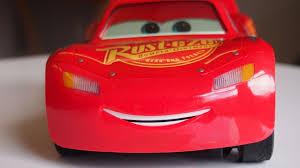mcqueen: (45, 1, 277, 161)
